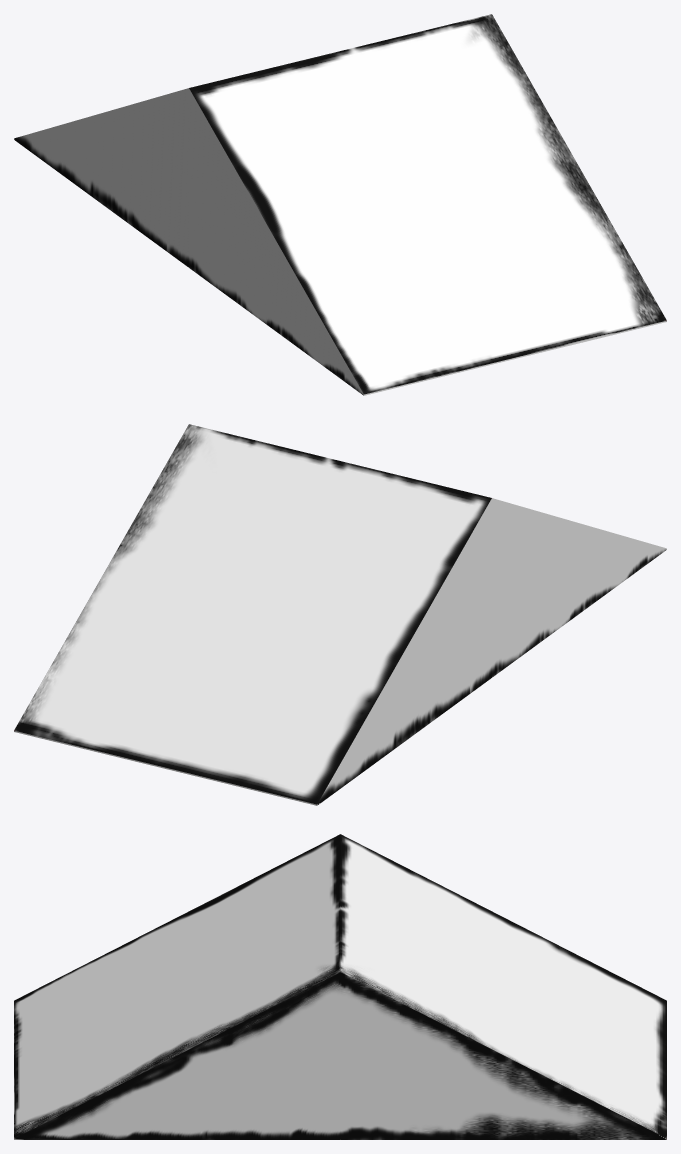
Rendered from roof.fbx.
3 views of the same model, one above another, from view 1: azimuth 30°, elevation 25°; view 2: azimuth 150°, elevation 25°; view 3: azimuth 270°, elevation 25° (orthographic). The views are drawn at different scales.
Parts seen in each view (by area): view 1: Cube.002; view 2: Cube.002; view 3: Cube.002.
Part boxes in pixels (x1=…): Cube.002: x1=14, y1=14, x2=666, y2=395; Cube.002: x1=14, y1=424, x2=666, y2=805; Cube.002: x1=14, y1=834, x2=666, y2=1139.
Size of the model in its own units: 2000 by 1134 by 4000.
